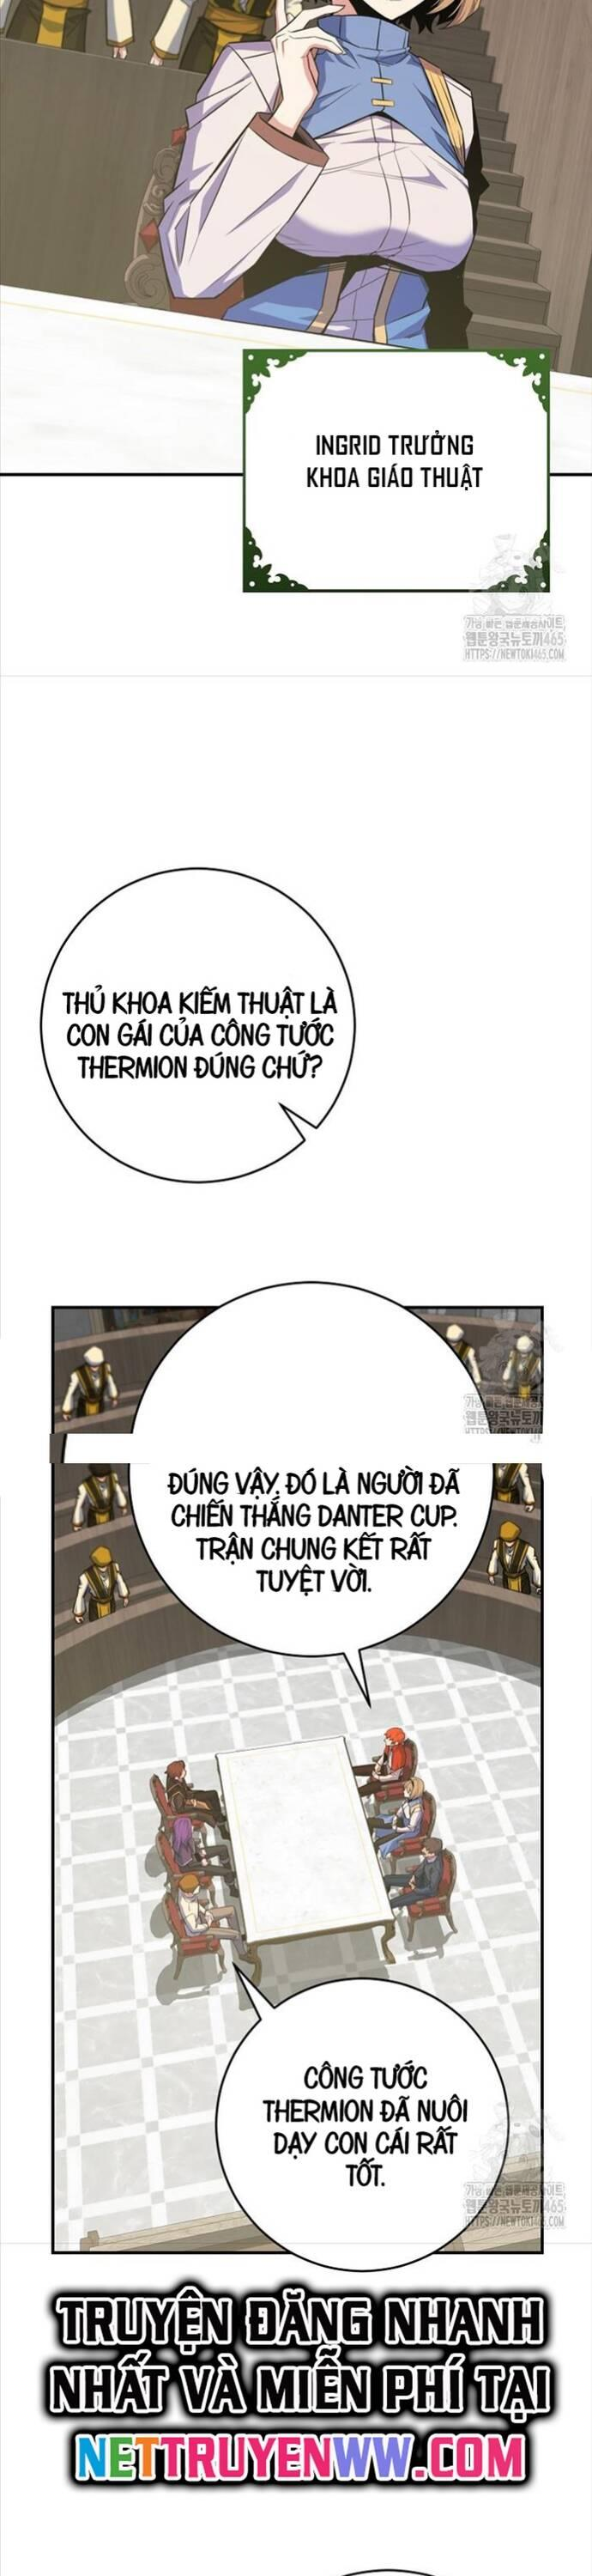quangcao: (43, 2270, 558, 2494)
